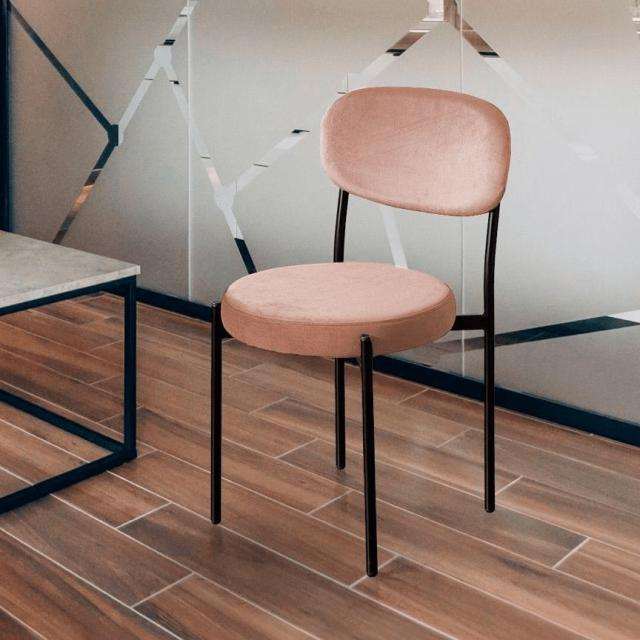chair: (206, 81, 514, 578), (208, 77, 508, 350)
